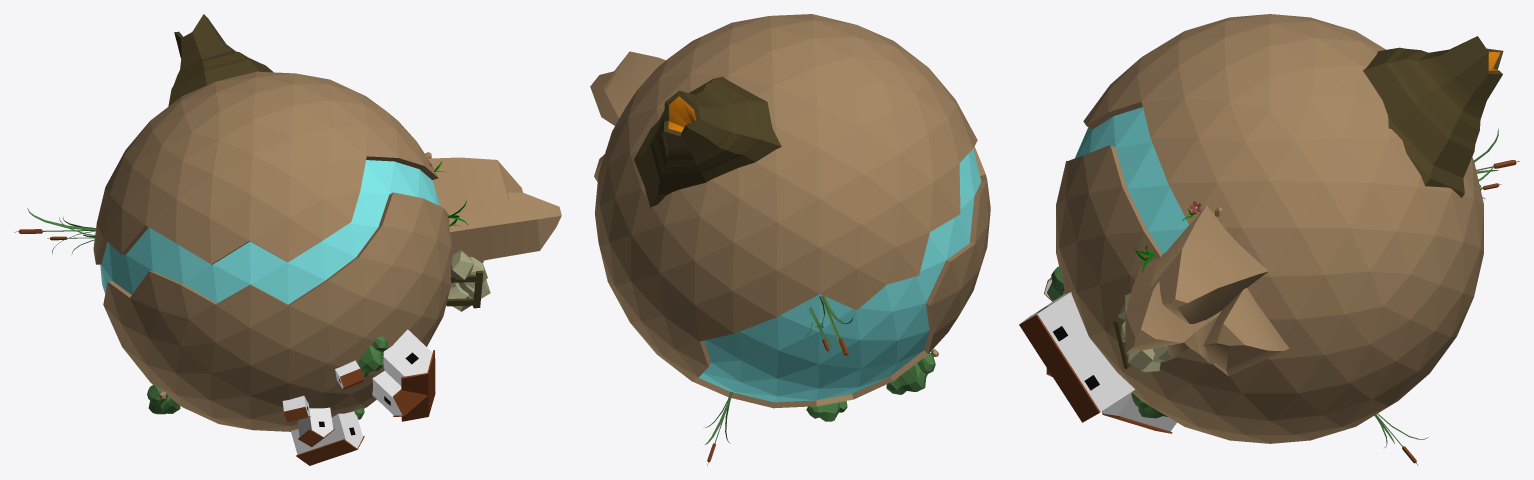
File: terre_pierre.fbx
3 views of the same model, side by side, from view 1: azimuth 30°, elevation 25°; view 2: azimuth 150°, elevation 25°; view 3: azimuth 270°, elevation 25° (orthographic). The views are drawn at different scales.
Visible parts, largest first — view 1: Terre, montagne1:pCube5, maison_l:pCube5, volcan1:pCube1, maison_m:pCube1, mine, maison_s:pCube2, pCube13, pCube8, pCube10, pCube11; view 2: Terre, volcan1:pCube1, montagne1:pCube5, pCube8, pCube9, roseau1:tige1, tige2; view 3: Terre, montagne1:pCube5, volcan1:pCube1, maison_l:pCube5, mine, maison_m:pCube1.
Boxes of the visible parts, box(x1,y1,x2,y2) form: Terre: box(93, 71, 453, 431); montagne1:pCube5: box(427, 157, 561, 262); maison_l:pCube5: box(372, 329, 435, 421); volcan1:pCube1: box(168, 14, 273, 106); maison_m:pCube1: box(291, 411, 364, 465); mine: box(446, 250, 490, 311); maison_s:pCube2: box(297, 407, 335, 446); pCube13: box(358, 336, 387, 377); pCube8: box(147, 385, 180, 414); pCube10: box(335, 360, 364, 389); pCube11: box(282, 395, 310, 422); Terre: box(595, 14, 990, 408); volcan1:pCube1: box(634, 77, 781, 207); montagne1:pCube5: box(590, 51, 665, 181); pCube8: box(886, 353, 935, 394); pCube9: box(806, 401, 847, 421); roseau1:tige1: box(813, 295, 853, 357); tige2: box(703, 391, 732, 465); Terre: box(1056, 14, 1483, 443); montagne1:pCube5: box(1125, 205, 1289, 375); volcan1:pCube1: box(1363, 36, 1503, 197); maison_l:pCube5: box(1019, 292, 1134, 422); mine: box(1113, 293, 1176, 372); maison_m:pCube1: box(1102, 392, 1176, 433).
Bounding box in the file's own units: 248 × 220 × 232.
